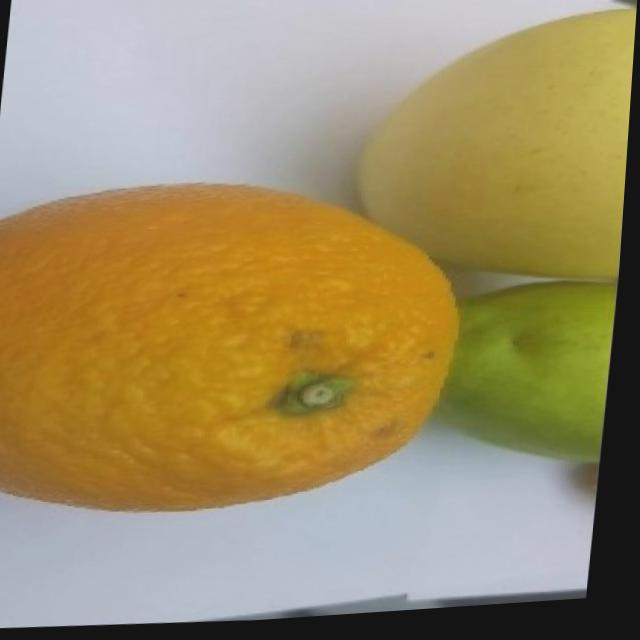Orange: (0, 161, 479, 535)
